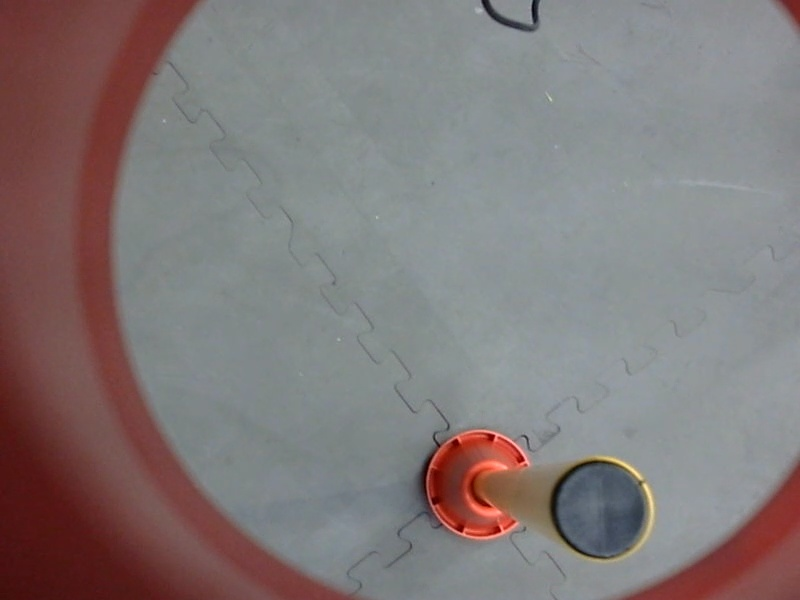tip: (545, 455, 661, 573)
